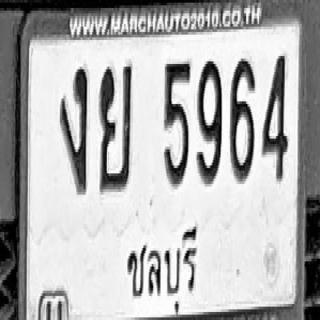A07: (59, 65, 87, 193)
A34: (99, 63, 132, 191)
N04: (262, 53, 287, 181)
N05: (164, 60, 190, 185)
N06: (230, 56, 255, 181)
N09: (196, 59, 221, 184)
P13: (125, 218, 201, 307)
